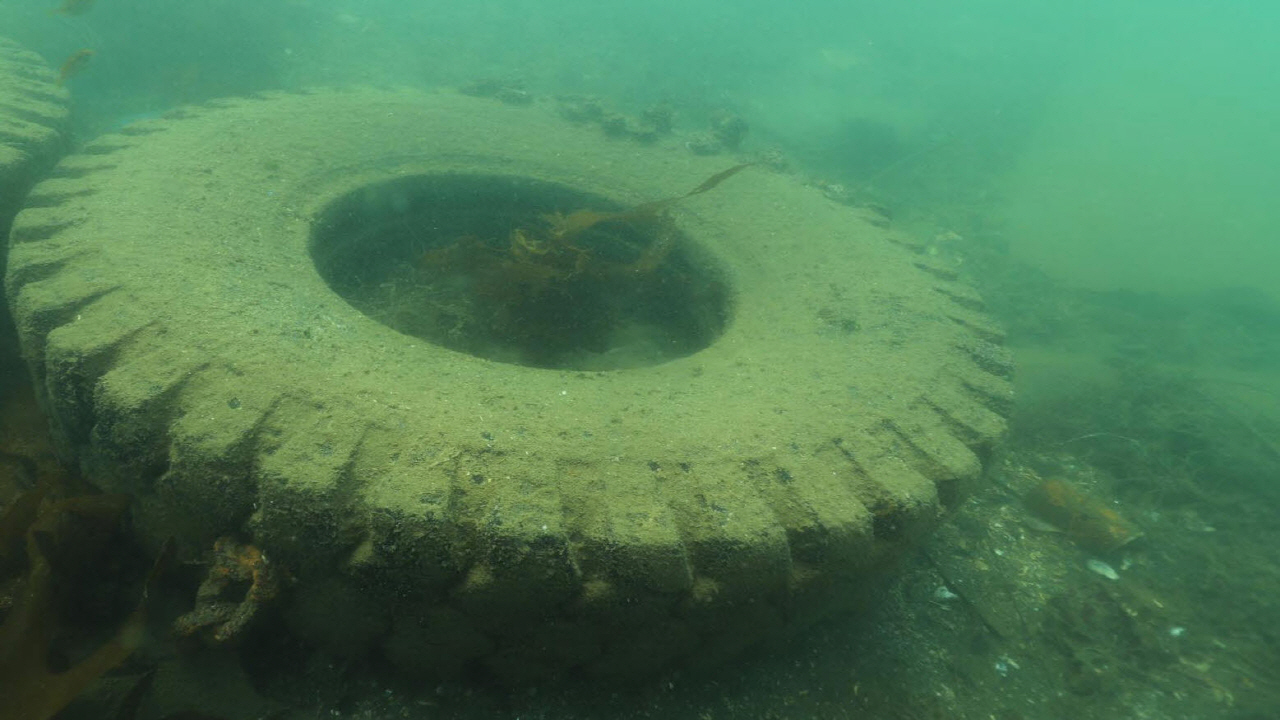tire: (7, 81, 1018, 676)
